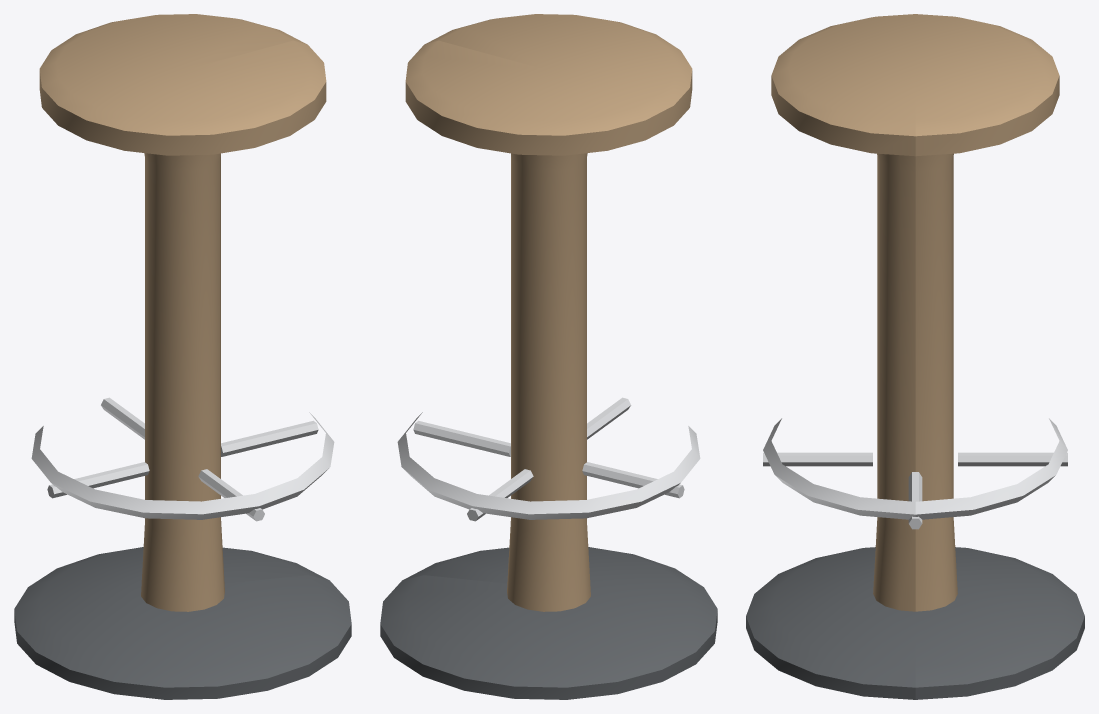
The model's file is bakery-and-cafe-bar-stool-backless-fd5c5056__22212.glb.
3 renders of one model, left to right at view 1: azimuth 30°, elevation 25°; view 2: azimuth 150°, elevation 25°; view 3: azimuth 270°, elevation 25°, orthographic.
Parts seen in each view (by area): view 1: bar-stool-backless; view 2: bar-stool-backless; view 3: bar-stool-backless.
Part boxes in pixels (x1=…): bar-stool-backless: x1=14, y1=14, x2=351, y2=699; bar-stool-backless: x1=380, y1=14, x2=717, y2=699; bar-stool-backless: x1=746, y1=14, x2=1084, y2=699.
Size of the model in its own units: 0.4 by 0.73 by 0.4.
